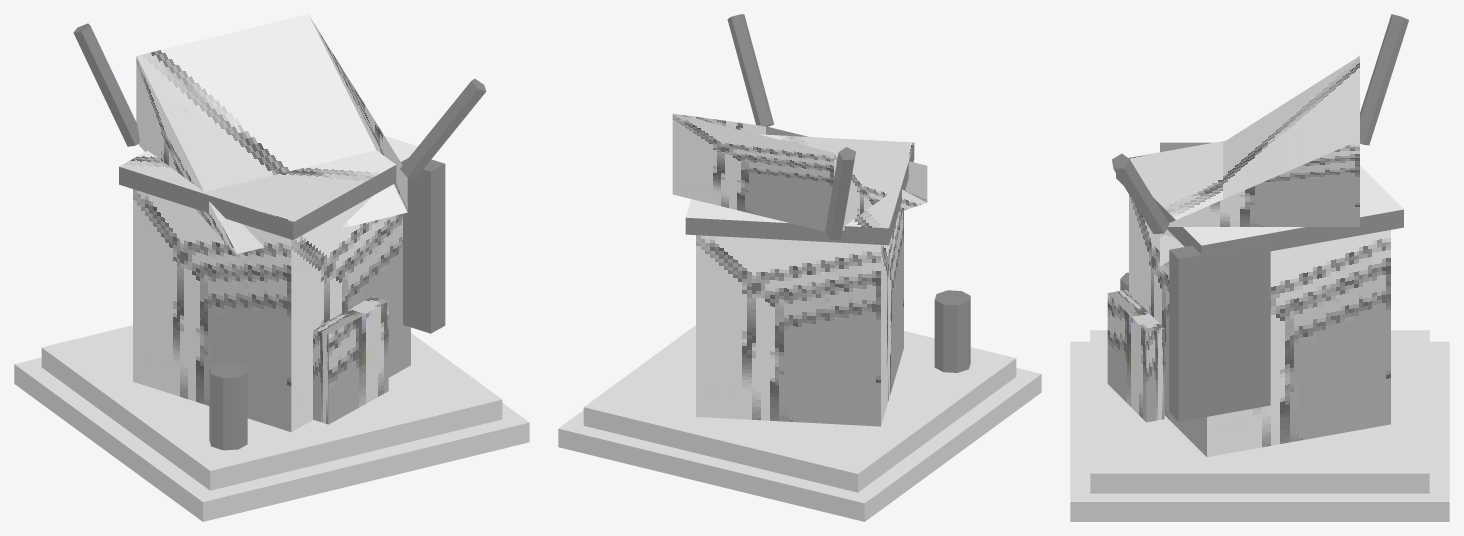
File: Building_SculptureGrand__F.glb
The picture shows the model from 3 angles, left to right: view 1: azimuth 30°, elevation 25°; view 2: azimuth 150°, elevation 25°; view 3: azimuth 270°, elevation 25°; orthographic projection. The views are drawn at different scales.
Visible parts, largest first — view 1: SculptureGrand__F; view 2: SculptureGrand__F; view 3: SculptureGrand__F.
Part boxes in pixels (bbox=[...]): SculptureGrand__F: bbox=[14, 14, 529, 521]; SculptureGrand__F: bbox=[558, 14, 1041, 521]; SculptureGrand__F: bbox=[1070, 14, 1449, 521].
Bounding box in the file's own units: 1.9 × 2.04 × 1.9.
1 material, 1 textured.
